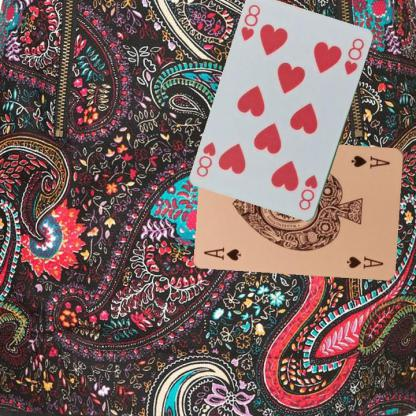8h: (238, 2, 262, 42), (296, 172, 319, 212)
As: (349, 152, 391, 170), (201, 244, 243, 262)
